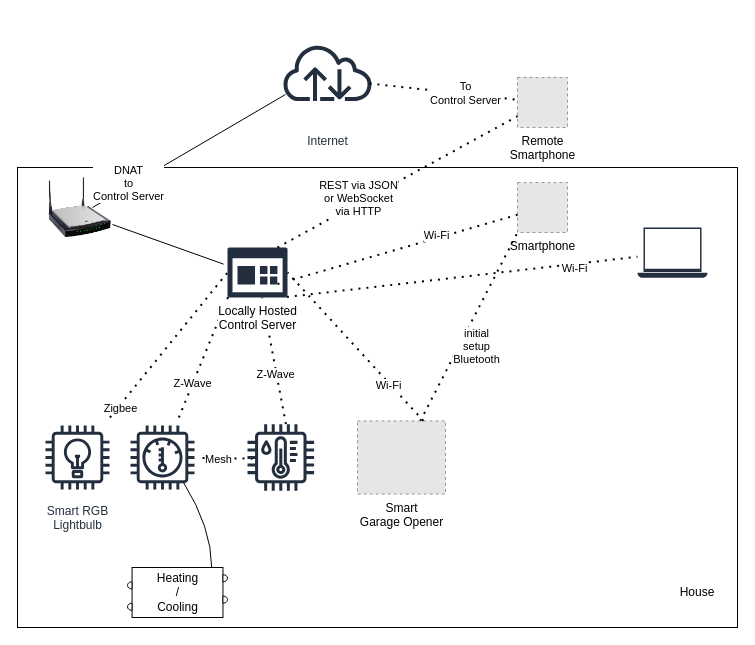
The diagram is 755 pixels wide and 645 high, and some of its shapes have lost their labels. Grey dashed boxes stand in for pictures. Each missing label, with the box of its shape:
Combined Router + Switch + Wi-Fi AP: (37, 177, 122, 237)
Laptop: (637, 227, 707, 277)
Smart Thermostat: (122, 416, 202, 498)
Temperature and Humidity Sensor: (247, 424, 314, 490)
